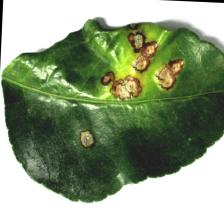greening: (52, 29, 189, 158)
